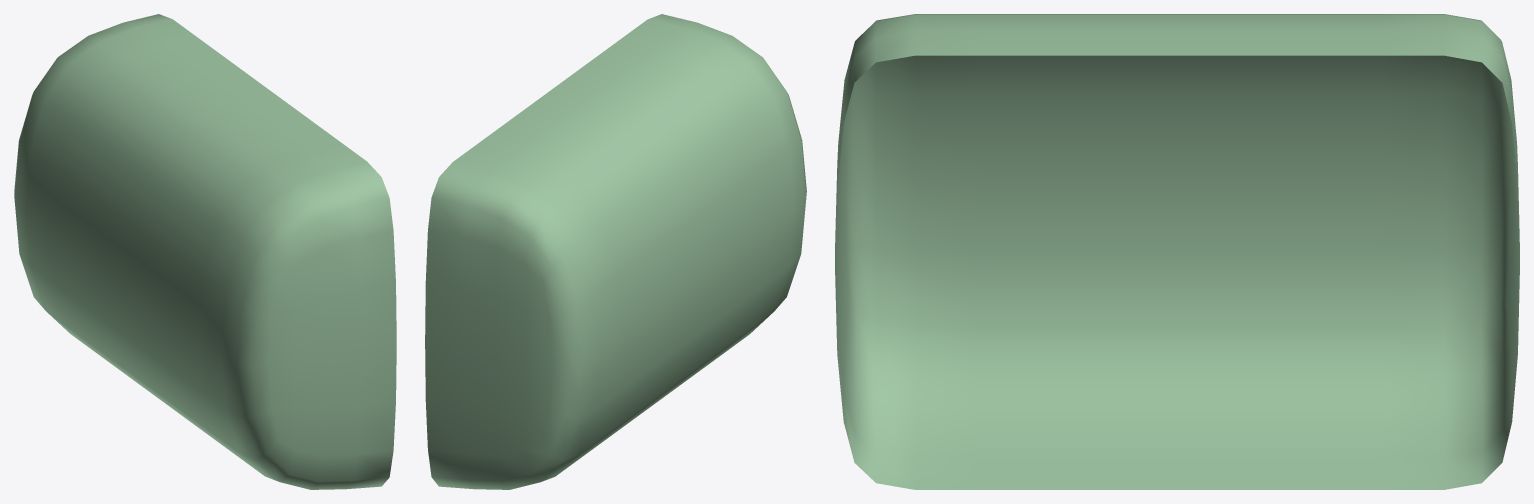
File: grass_frag.fbx
The picture shows the model from 3 angles, left to right: view 1: azimuth 30°, elevation 25°; view 2: azimuth 150°, elevation 25°; view 3: azimuth 270°, elevation 25°; orthographic projection. The views are drawn at different scales.
Visible parts, largest first — view 1: pCube19; view 2: pCube19; view 3: pCube19.
Boxes of the visible parts, x1=… form: pCube19: x1=14, y1=14, x2=396, y2=489; pCube19: x1=425, y1=14, x2=806, y2=489; pCube19: x1=835, y1=14, x2=1519, y2=489.
Bounding box in the file's own units: 4.63 × 9.62 × 13.75.
